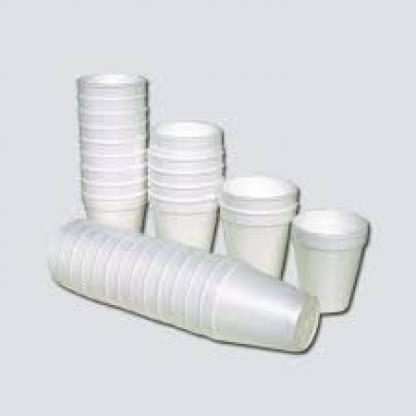paper: (44, 216, 318, 355), (194, 252, 318, 352), (74, 72, 146, 229), (146, 119, 226, 254), (290, 207, 370, 313), (220, 176, 300, 281), (218, 202, 296, 281), (146, 190, 218, 250), (80, 187, 146, 227)
